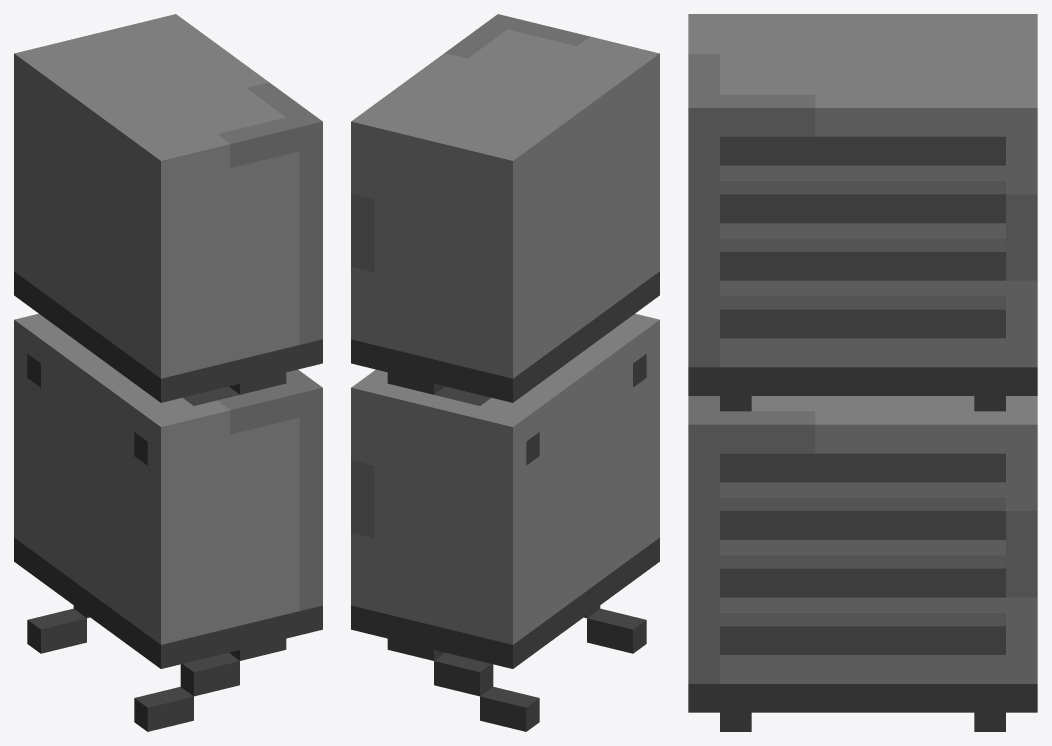
Rendered from condenserUnitTypeB.glb.
The picture shows the model from 3 angles, left to right: view 1: azimuth 30°, elevation 25°; view 2: azimuth 150°, elevation 25°; view 3: azimuth 270°, elevation 25°; orthographic projection. The views are drawn at different scales.
Visible parts, largest first — view 1: ObjObject; view 2: ObjObject; view 3: ObjObject.
Boxes of the visible parts, left/top/right/bottom form: ObjObject: left=14, top=14, right=322, bottom=731; ObjObject: left=351, top=14, right=659, bottom=731; ObjObject: left=688, top=14, right=1037, bottom=731.
Size of the model in its own units: 0.7 by 2.4 by 1.1.
1 material, 1 textured.
